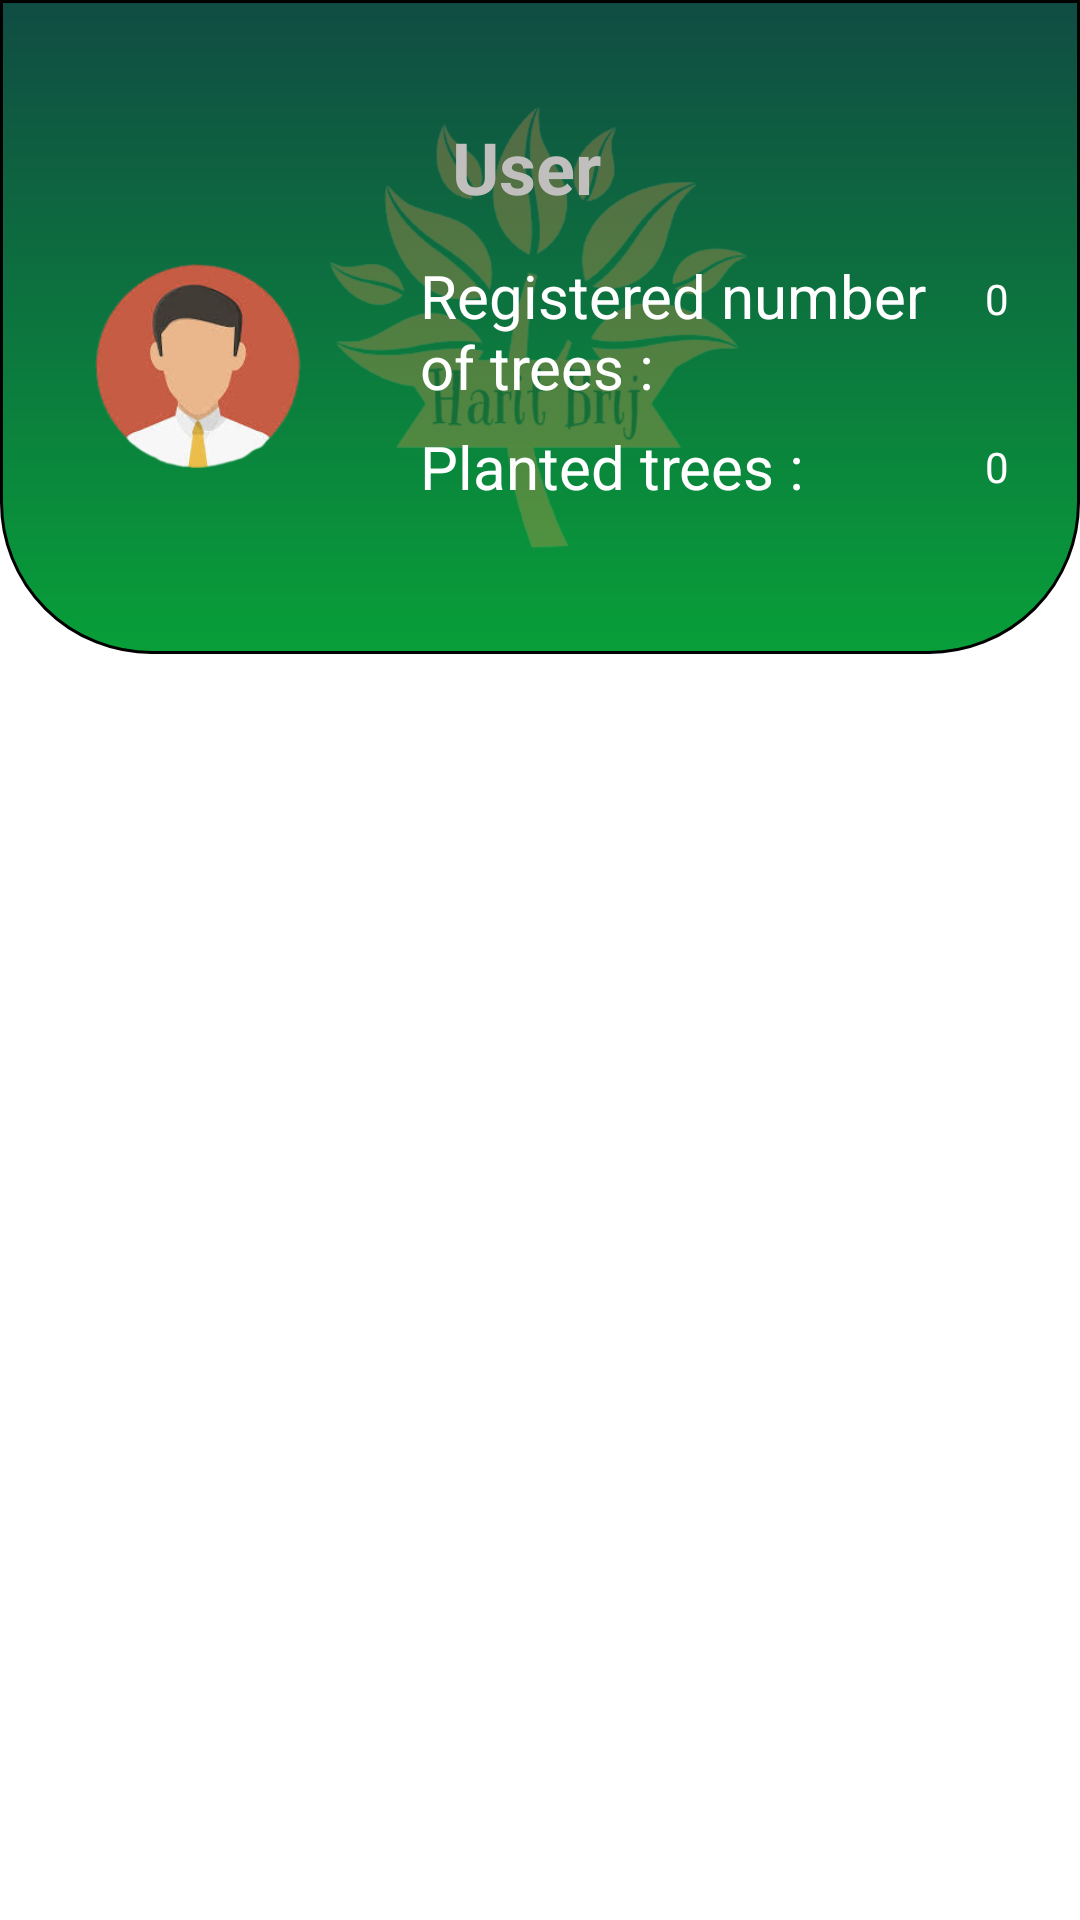

Screen size 1080 x 1920. Icon name, then its center in pixels as point (x, y):
maleavatar: point (198, 366)
